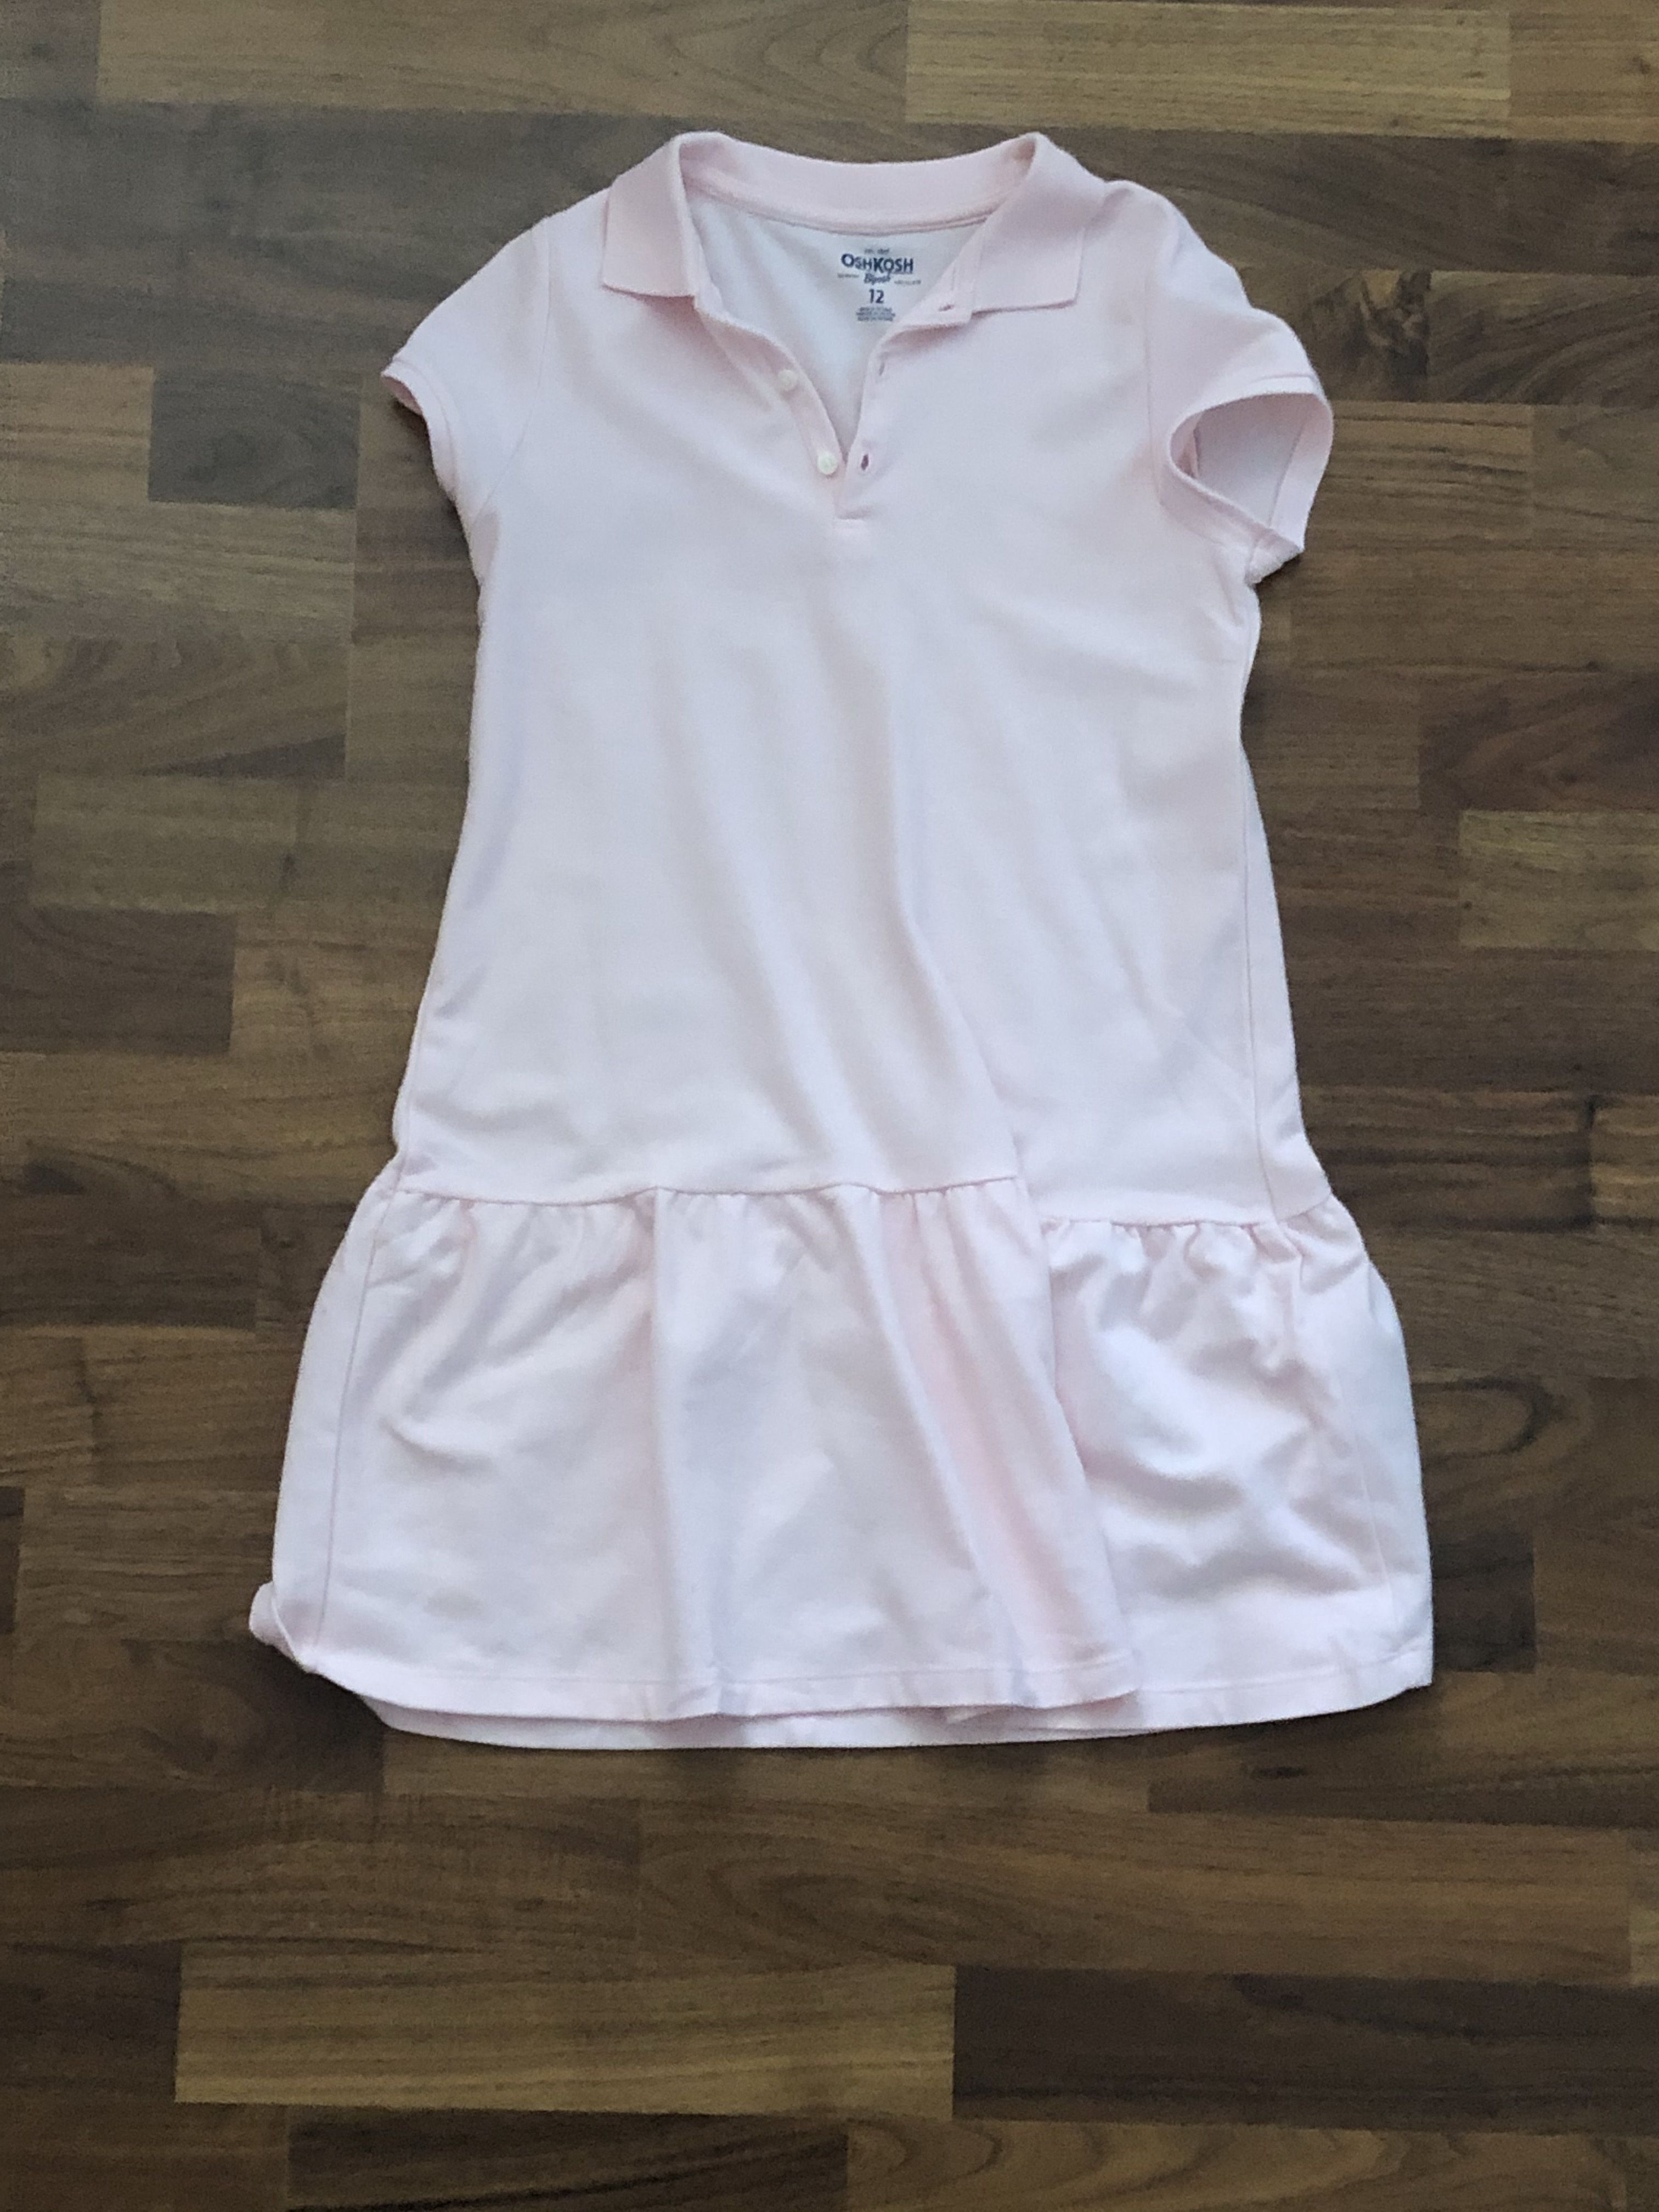clothes: (227, 120, 1499, 1771)
